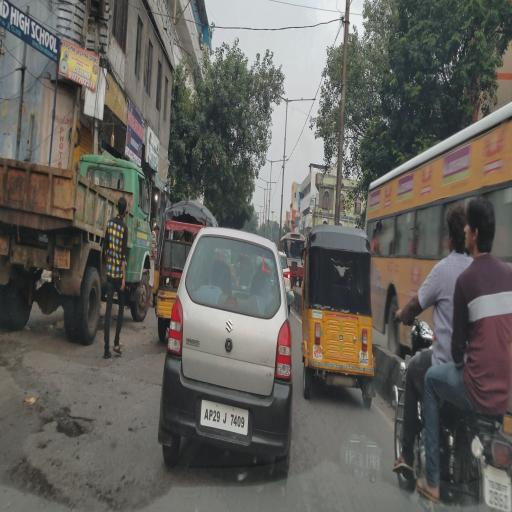street_light_0: (288, 90, 323, 107), (273, 152, 291, 174), (254, 170, 267, 192), (265, 172, 278, 192)
